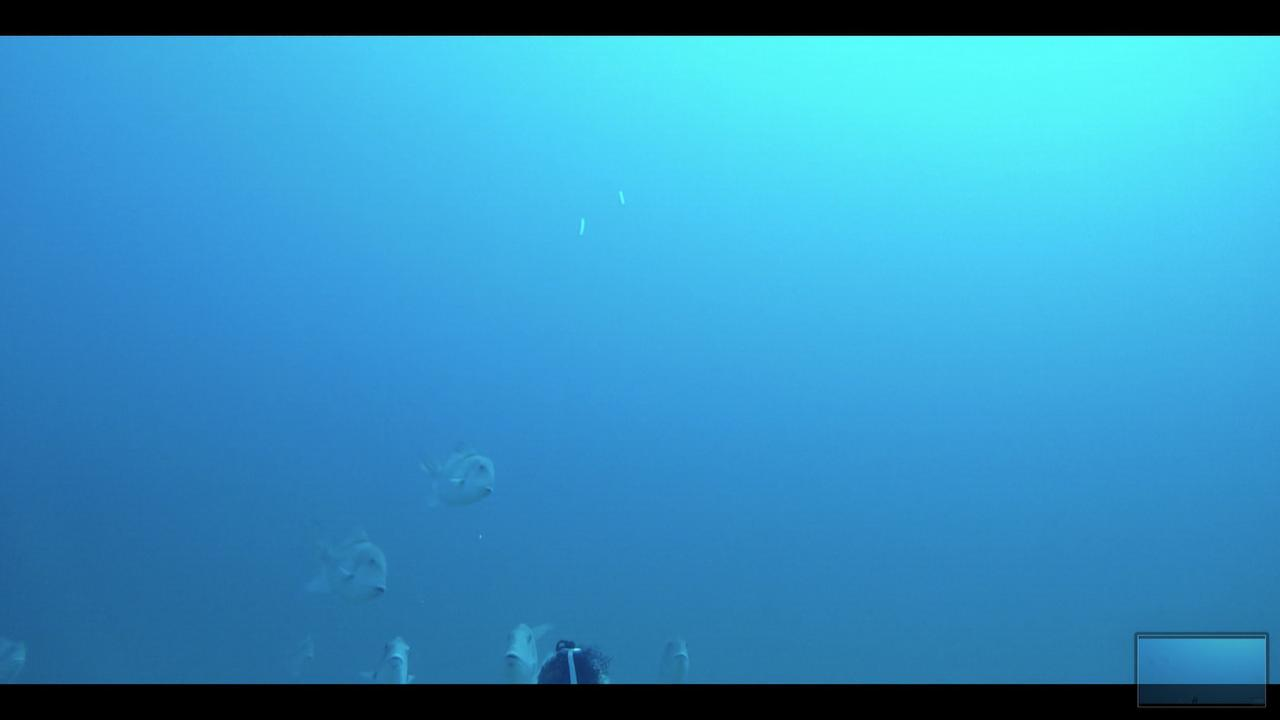balistes: (301, 514, 392, 603), (410, 436, 497, 510), (500, 614, 551, 684), (361, 630, 417, 681), (651, 634, 692, 684)
